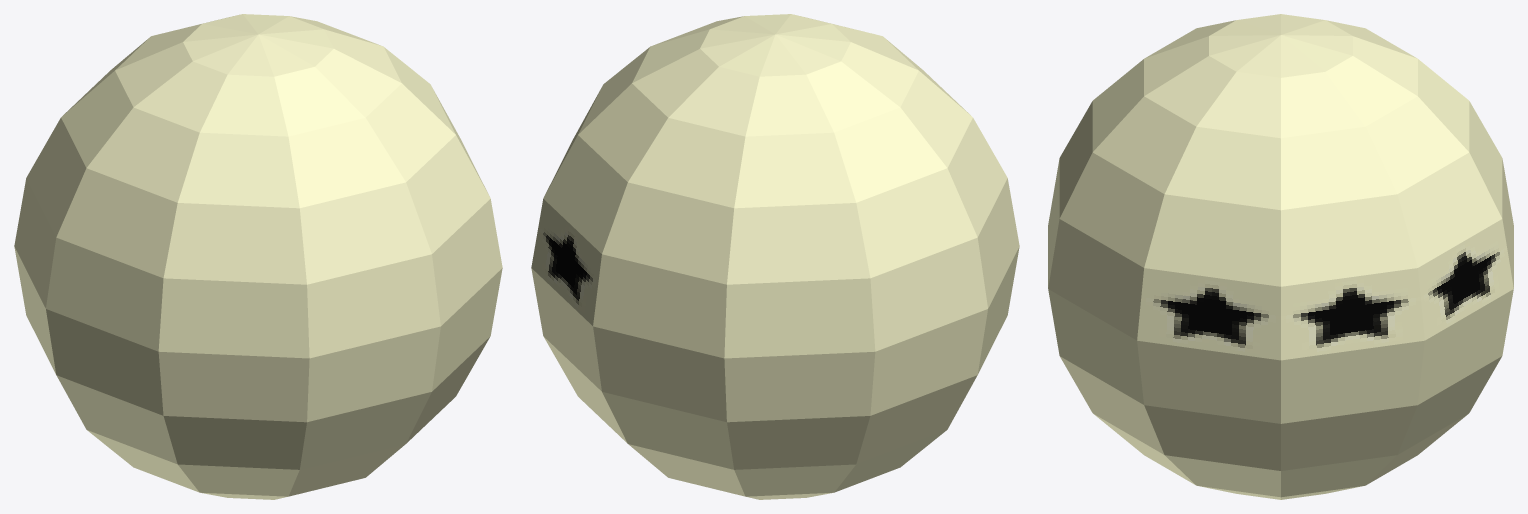
The model's file is ball.obj.
3 views of the same model, side by side, from view 1: azimuth 30°, elevation 25°; view 2: azimuth 150°, elevation 25°; view 3: azimuth 270°, elevation 25° (orthographic).
Visible parts, largest first — view 1: Mesh1 Model; view 2: Mesh1 Model; view 3: Mesh1 Model.
Boxes of the visible parts, <box> form: Mesh1 Model: <box>14,14,502,499</box>; Mesh1 Model: <box>531,14,1019,499</box>; Mesh1 Model: <box>1048,14,1513,499</box>.
Bounding box in the file's own units: 0.04 × 0.04 × 0.038.
